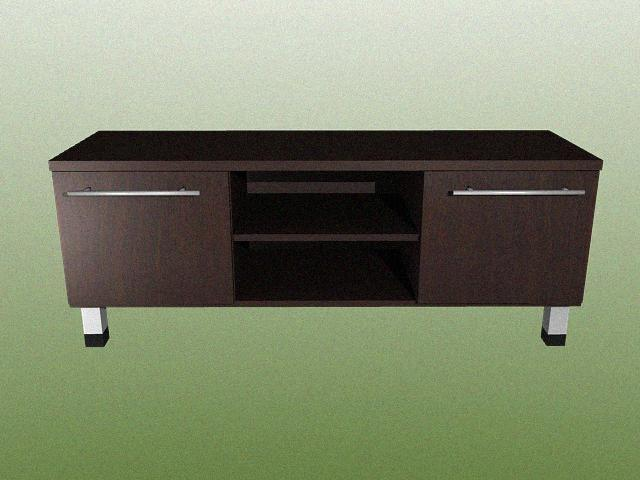cabinet_door: (61, 172, 231, 306), (422, 171, 592, 303)
handle: (62, 182, 205, 202), (447, 184, 585, 202)
